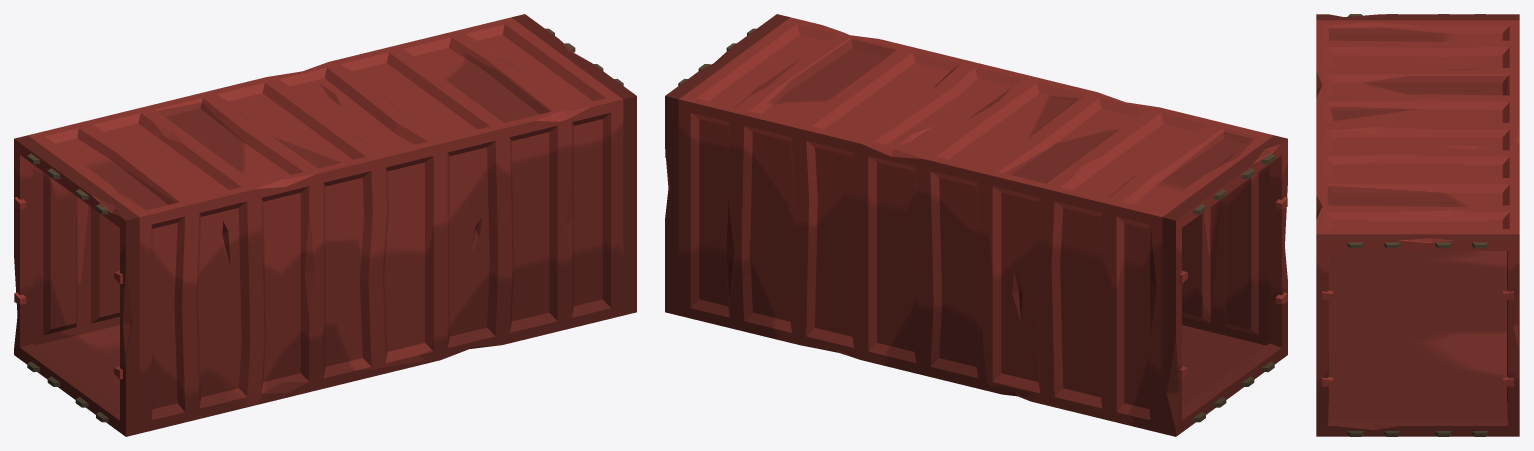
Rendered from SM_Prop_Container_01.obj.
3 renders of one model, left to right at view 1: azimuth 30°, elevation 25°; view 2: azimuth 150°, elevation 25°; view 3: azimuth 270°, elevation 25°, orthographic. The views are drawn at different scales.
Visible parts, largest first — view 1: SM_Prop_Container_01_0; view 2: SM_Prop_Container_01_0; view 3: SM_Prop_Container_01_0.
Part boxes in pixels (bbox=[...]): SM_Prop_Container_01_0: bbox=[14, 14, 636, 436]; SM_Prop_Container_01_0: bbox=[665, 14, 1287, 436]; SM_Prop_Container_01_0: bbox=[1316, 14, 1519, 436].
Bounding box in the file's own units: 6.54 × 2.59 × 2.43.
1 material, 1 textured.
